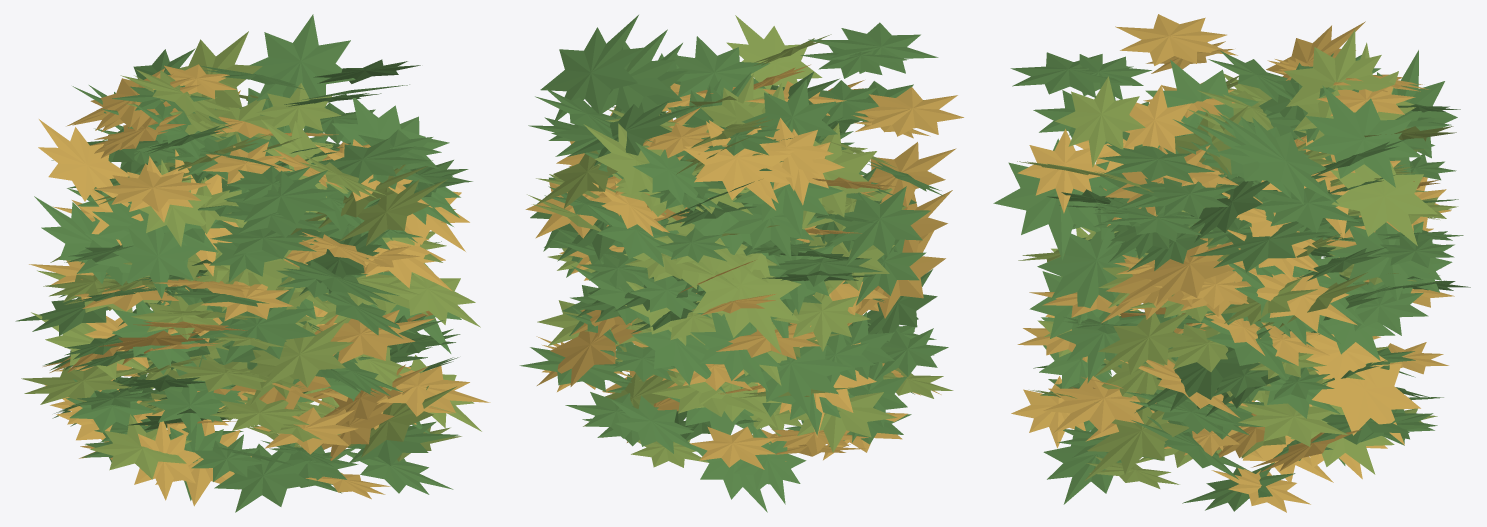
File: hedge_v5.glb
The picture shows the model from 3 angles, left to right: view 1: azimuth 30°, elevation 25°; view 2: azimuth 150°, elevation 25°; view 3: azimuth 270°, elevation 25°; orthographic projection. The views are drawn at different scales.
Parts seen in each view (by area): view 1: Maple_leaf.332, Maple_leaf.083, Maple_leaf.033, Maple_leaf.348, Maple_leaf.138, Maple_leaf.209, Maple_leaf.036, Maple_leaf.055, Maple_leaf.150, Maple_leaf.199, Maple_leaf.255, Maple_leaf.252 (+100 smaller); view 2: Maple_leaf.062, Maple_leaf.112, Maple_leaf.079, Maple_leaf.013, Maple_leaf.181, Maple_leaf.252, Maple_leaf.055, Maple_leaf.150, Maple_leaf.336, Maple_leaf.051, Maple_leaf.004, Maple_leaf.036 (+81 smaller); view 3: Maple_leaf.020, Maple_leaf.090, Maple_leaf.145, Maple_leaf.051, Maple_leaf.184, Maple_leaf.182, Maple_leaf.112, Maple_leaf.082, Maple_leaf.292, Maple_leaf.255, Maple_leaf.074, Maple_leaf.055 (+84 smaller).
Part boxes in pixels (box(x1,y1,x2,y2)): Maple_leaf.332: box(250, 14, 355, 128); Maple_leaf.083: box(38, 119, 129, 205); Maple_leaf.033: box(199, 287, 316, 363); Maple_leaf.348: box(113, 227, 201, 298); Maple_leaf.138: box(250, 317, 353, 388); Maple_leaf.209: box(214, 442, 312, 512); Maple_leaf.036: box(224, 170, 338, 224); Maple_leaf.055: box(92, 163, 210, 211); Maple_leaf.150: box(338, 179, 447, 245); Maple_leaf.199: box(317, 309, 435, 363); Maple_leaf.255: box(376, 366, 490, 416); Maple_leaf.252: box(311, 137, 432, 183); Maple_leaf.062: box(693, 253, 801, 354); Maple_leaf.112: box(540, 15, 644, 123); Maple_leaf.079: box(683, 121, 791, 210); Maple_leaf.013: box(830, 186, 930, 265); Maple_leaf.181: box(734, 342, 853, 417); Maple_leaf.252: box(667, 36, 769, 97); Maple_leaf.055: box(855, 87, 963, 136); Maple_leaf.150: box(726, 15, 822, 87); Maple_leaf.336: box(742, 79, 837, 137); Maple_leaf.051: box(537, 318, 641, 386); Maple_leaf.004: box(690, 313, 781, 391); Maple_leaf.036: box(808, 22, 938, 73); Maple_leaf.020: box(1303, 85, 1422, 187); Maple_leaf.090: box(1330, 160, 1437, 245); Maple_leaf.145: box(993, 138, 1110, 259); Maple_leaf.051: box(1312, 332, 1420, 444); Maple_leaf.184: box(1037, 228, 1137, 326); Maple_leaf.182: box(1284, 29, 1394, 118); Maple_leaf.112: box(1218, 113, 1338, 204); Maple_leaf.082: box(1055, 76, 1145, 167); Maple_leaf.292: box(1327, 221, 1451, 301); Maple_leaf.255: box(1043, 376, 1156, 433); Maple_leaf.074: box(1084, 407, 1189, 480); Maple_leaf.055: box(1115, 14, 1237, 65).
Size of the model in its own units: 1.32 by 1.24 by 1.35.
